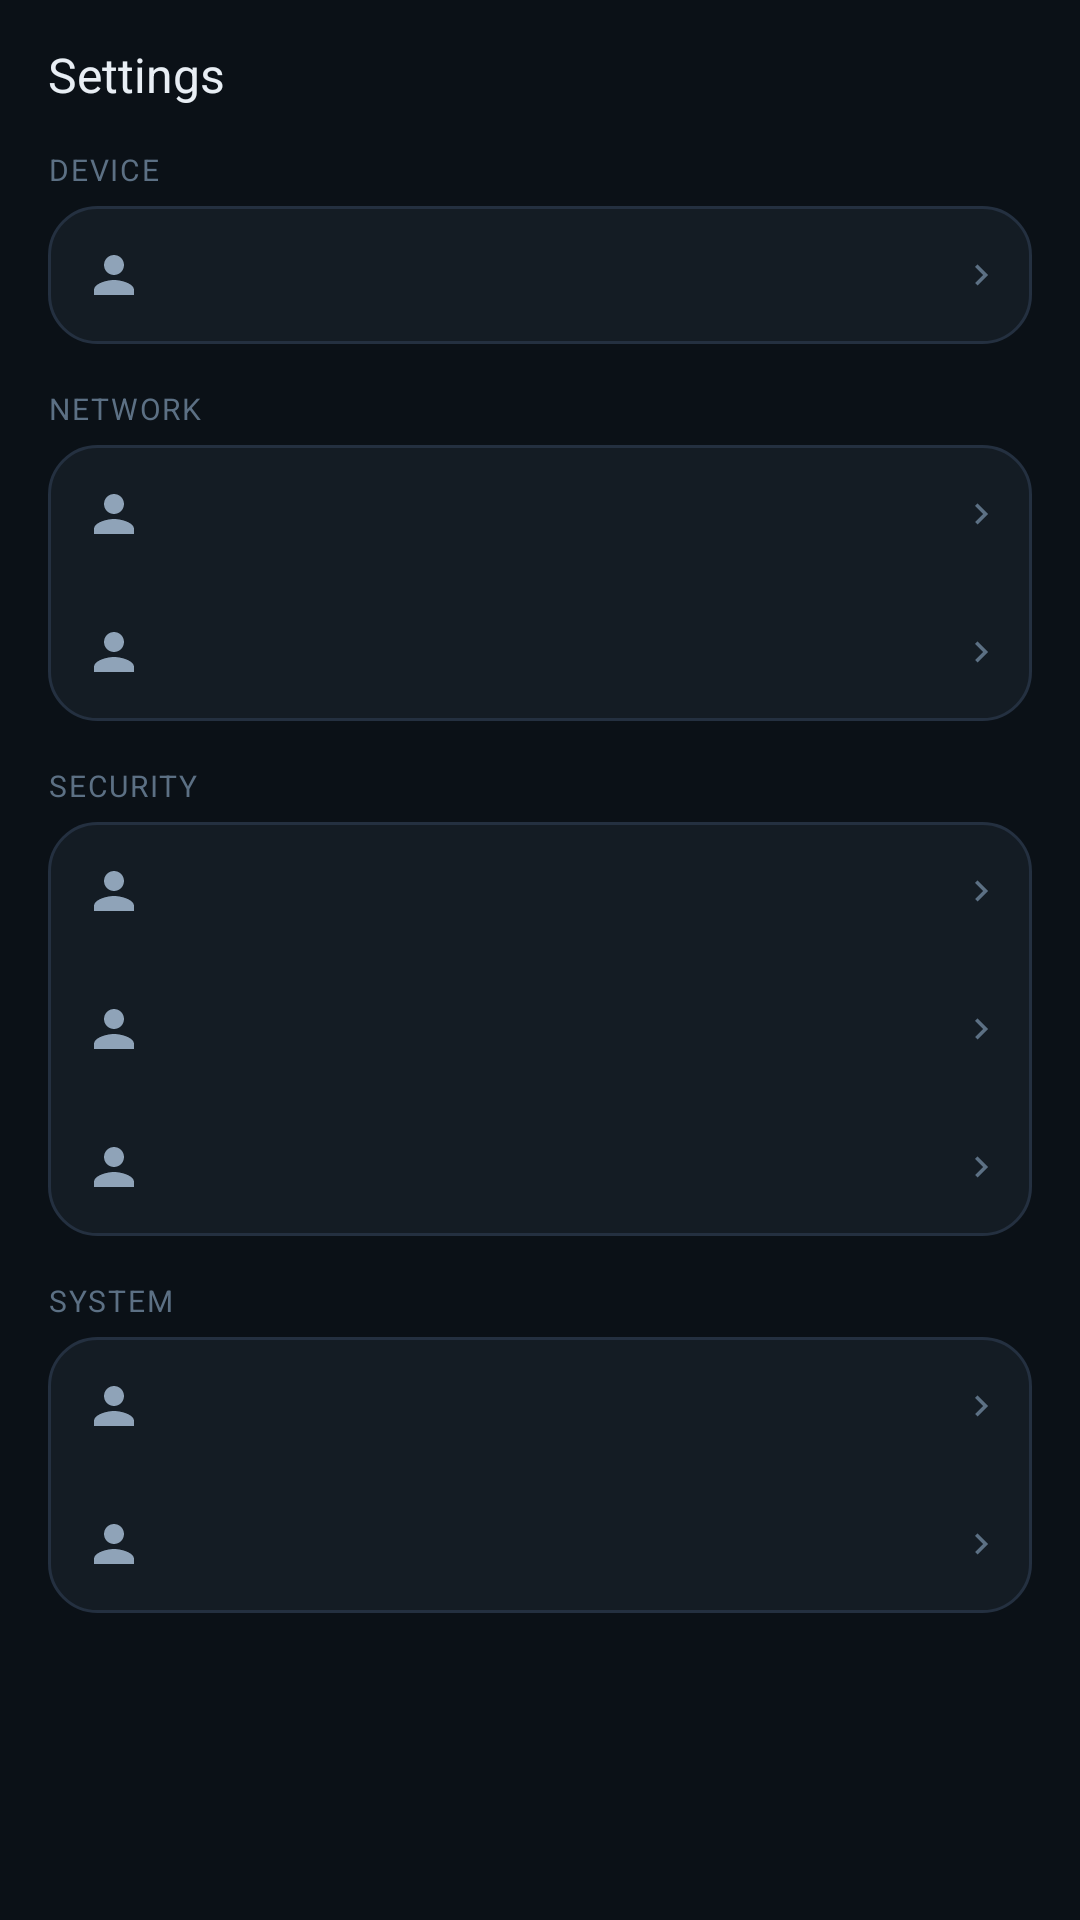

Screen size 1080 × 1920. Icon name, then its box in pixels as (x1, y1, x2, y2):
status person: (94, 255, 134, 295), (94, 494, 134, 534), (94, 632, 134, 672), (94, 871, 134, 911), (94, 1009, 134, 1049), (94, 1147, 134, 1187), (94, 1386, 134, 1426), (94, 1524, 134, 1564)
